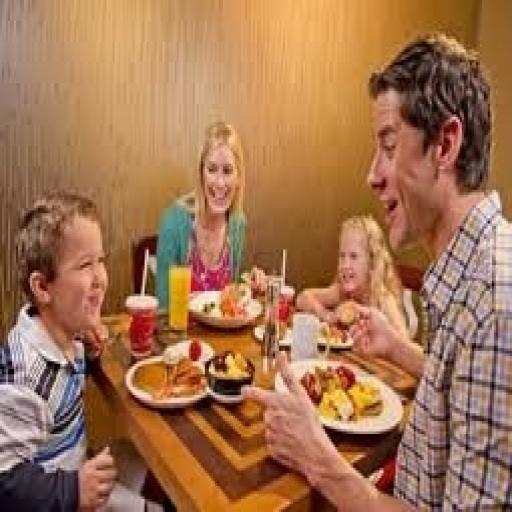eating: (0, 28, 510, 510)
